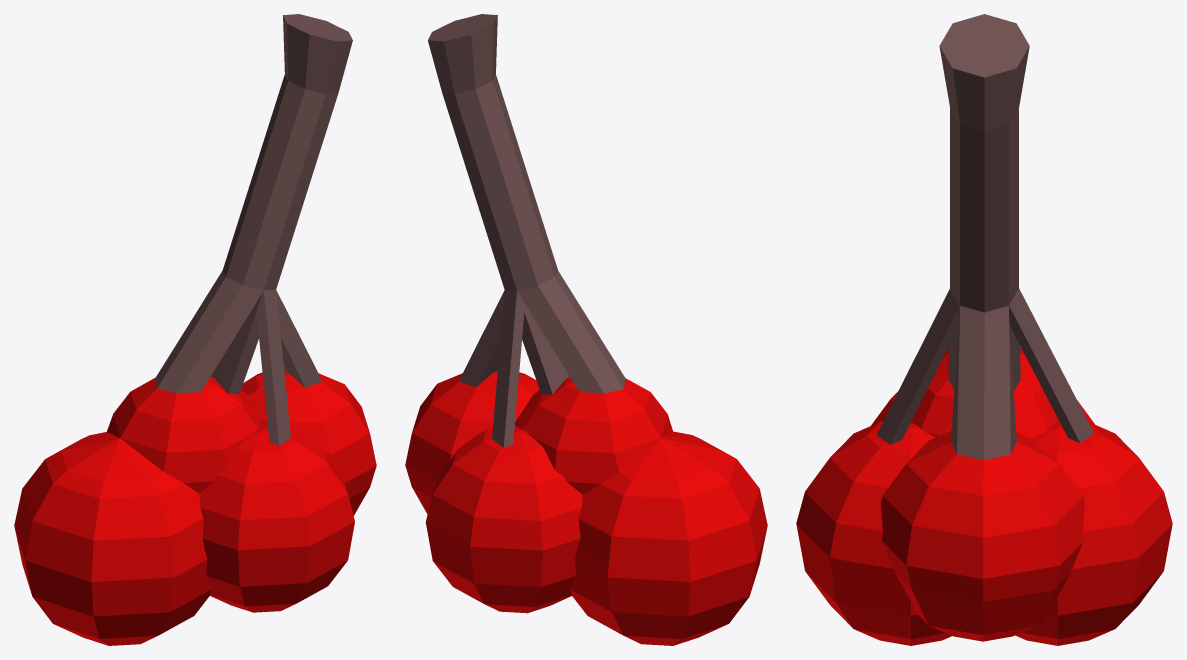
File: Berry_Mesh.fbx
3 views of the same model, side by side, from view 1: azimuth 30°, elevation 25°; view 2: azimuth 150°, elevation 25°; view 3: azimuth 270°, elevation 25° (orthographic). The views are drawn at different scales.
Visible parts, largest first — view 1: Berry_Mesh; view 2: Berry_Mesh; view 3: Berry_Mesh.
Boxes of the visible parts, left/top/right/bottom form: Berry_Mesh: left=14, top=14, right=376, bottom=645; Berry_Mesh: left=405, top=14, right=767, bottom=645; Berry_Mesh: left=796, top=14, right=1172, bottom=645.
Size of the model in its own units: 2.61 by 4.17 by 2.07.
